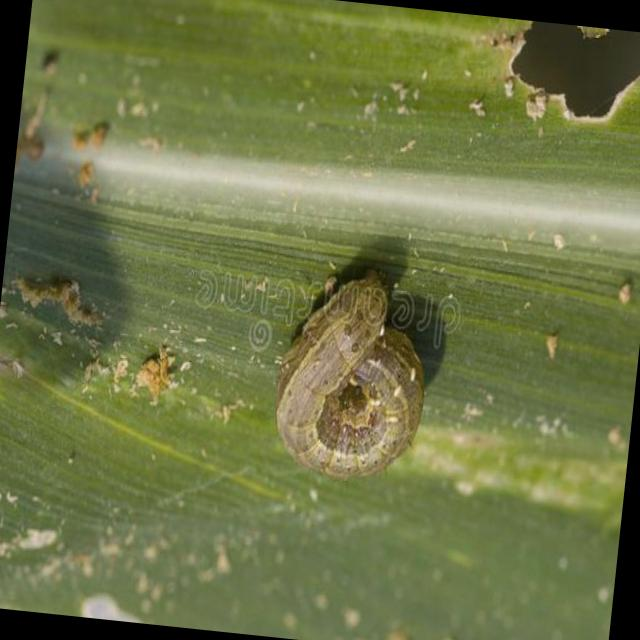pest: (271, 284, 433, 491)
